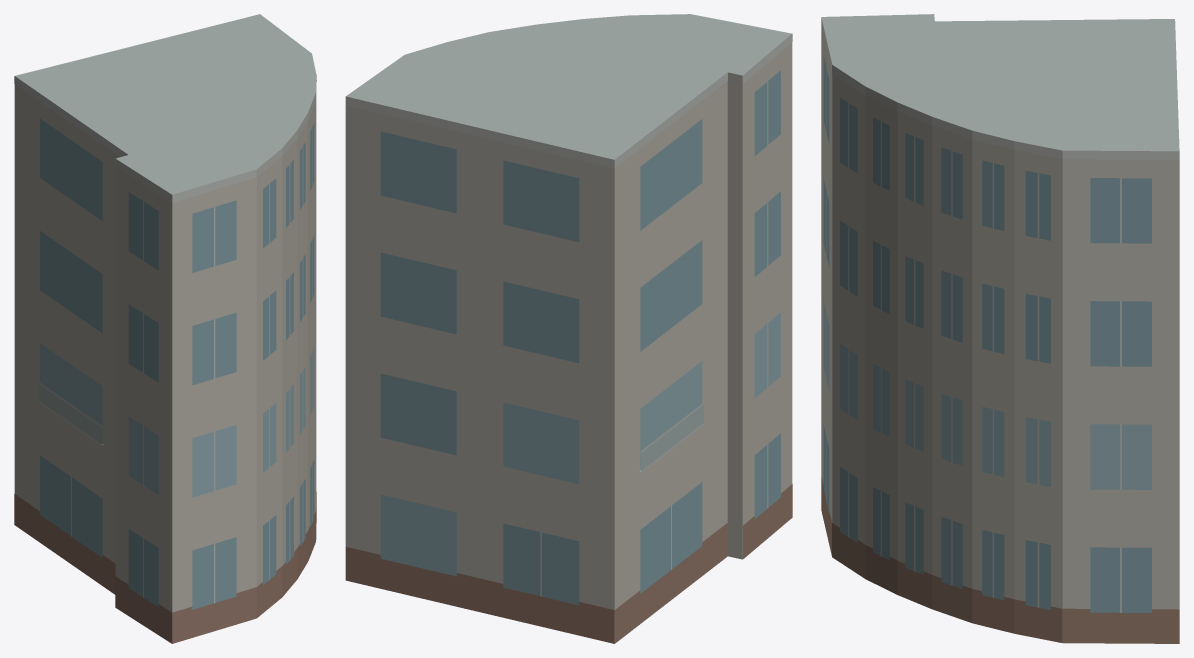
Rendered from survey-upis-32471650.glb.
3 views of the same model, side by side, from view 1: azimuth 30°, elevation 25°; view 2: azimuth 150°, elevation 25°; view 3: azimuth 270°, elevation 25° (orthographic). The views are drawn at different scales.
Visible parts, largest first — view 1: survey-upis-32471650.tmp; view 2: survey-upis-32471650.tmp; view 3: survey-upis-32471650.tmp.
Boxes of the visible parts, x1,y1,x2,y2 form: survey-upis-32471650.tmp: (14,14,316,643); survey-upis-32471650.tmp: (345,14,792,643); survey-upis-32471650.tmp: (821,14,1179,643).
Bounding box in the file's own units: 8.23 × 13.75 × 9.07.
